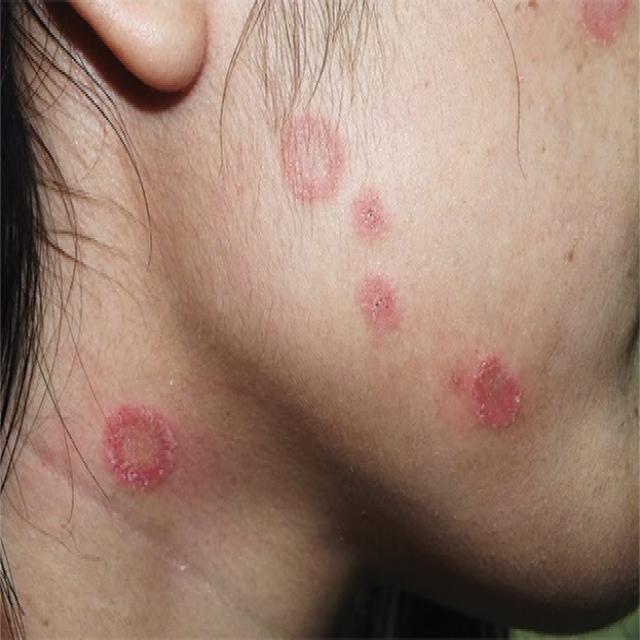tinea: (101, 379, 180, 544), (274, 74, 348, 240), (462, 314, 525, 450), (356, 267, 403, 338), (357, 185, 392, 244)
